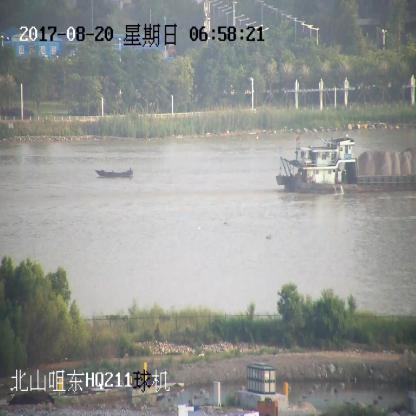Fishing Boat: (96, 167, 134, 179)
